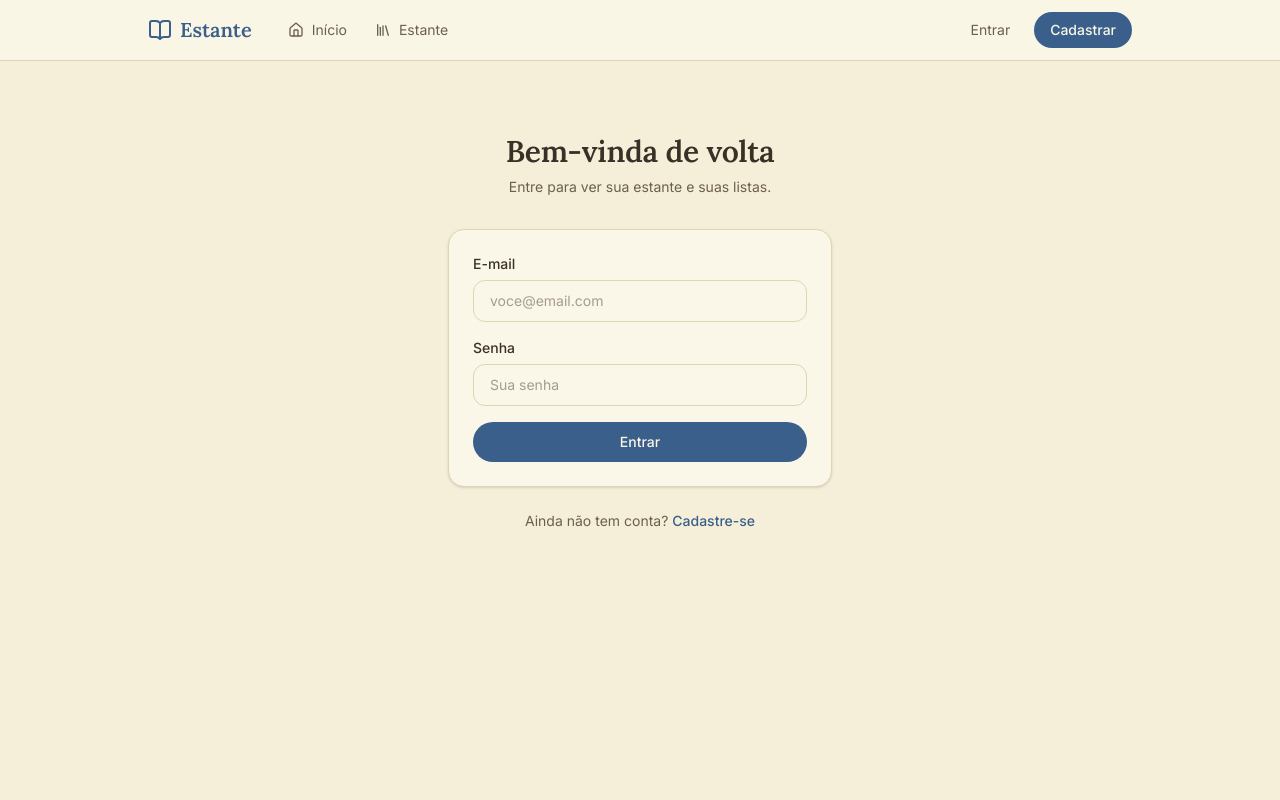
Test: validação do login › limpa o erro do campo quando a pessoa volta a digitar
The image size is (1280, 800).
Click the button "Entrar": (640, 442) [473,422,807,462]
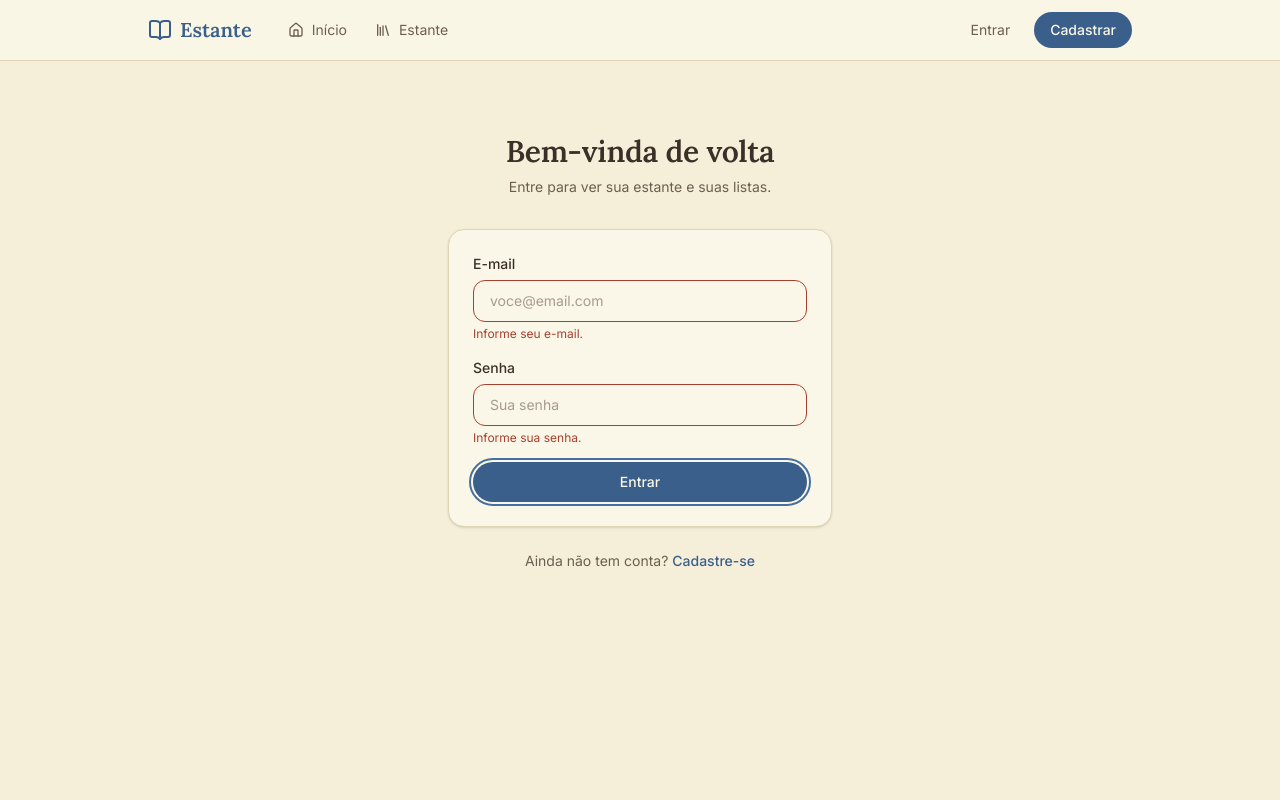
Result: the text "Informe sua senha." is shown at [473,430,582,445]
In the password field labelled "Senha": (640, 405) [473,384,807,426], type "s"
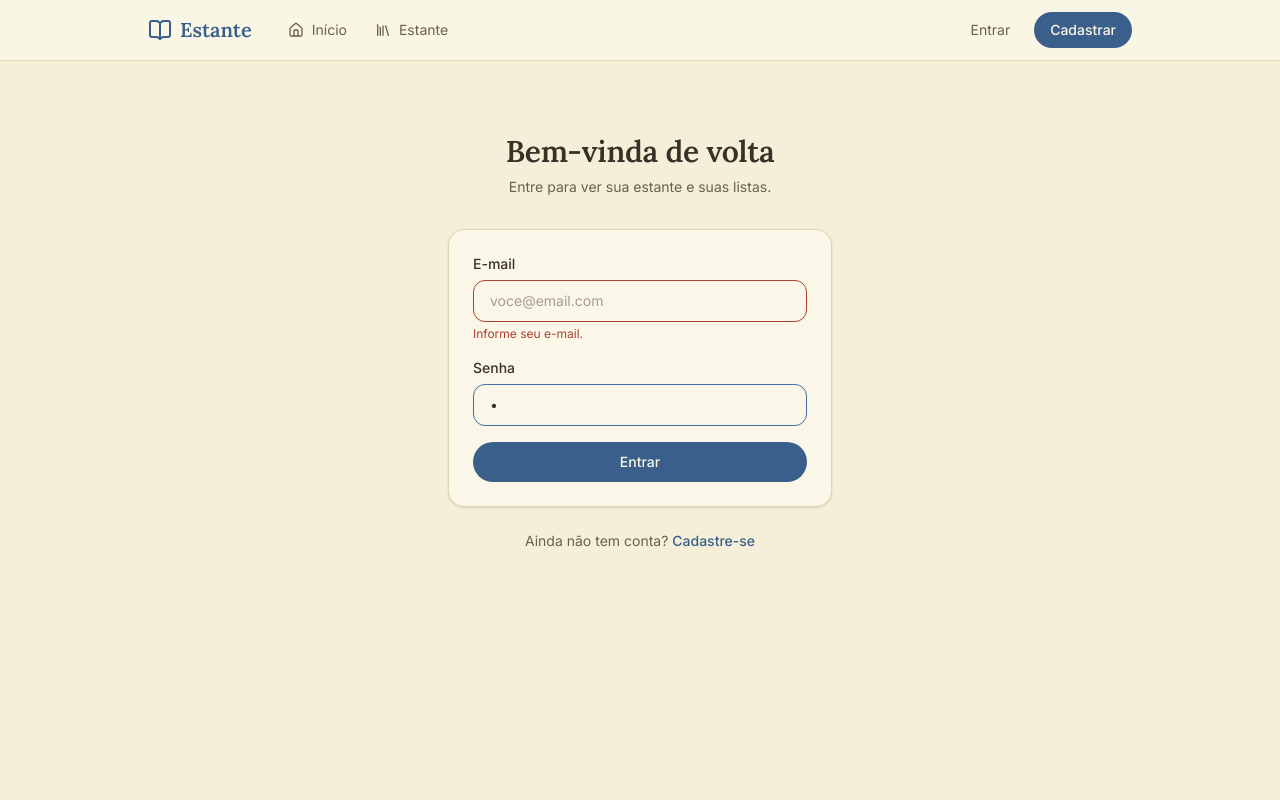
Result: the text "Informe sua senha." is gone
